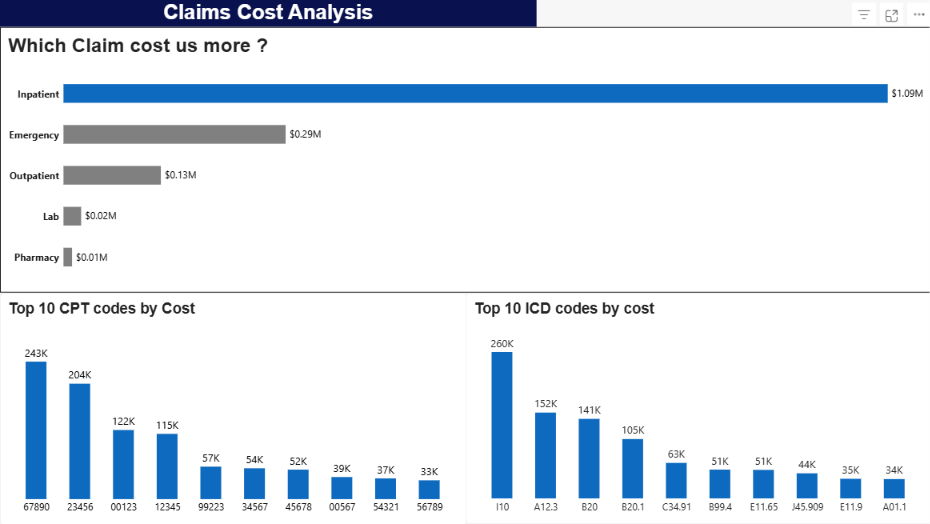

The dashboard page shown, as its layout file describes it:
{"tool":"powerbi","page":{"name":"Claims Cost Analysis","canvas":[1920,1080],"ordinal":0},"visuals":[{"type":"barChart","title":"Which Claim cost us more ?","fields":{"Category":["Claims_type/paid_amount.claim_type"],"Y":["Sum(Claims_type/paid_amount.Total_paid)"]},"box":[0,55.6,1920.4,547.5],"z":0},{"type":"columnChart","title":"Top 10 CPT codes by Cost","fields":{"Category":["claims.cpt_code"],"Y":["Sum(claims.paid_amount)"]},"box":[0,603.1,961.2,477.5],"z":1000},{"type":"textbox","box":[0,0,1105.3,55.6],"z":2000},{"type":"columnChart","title":"Top 10 ICD codes by cost","fields":{"Category":["claims.icd_code"],"Y":["Sum(claims.paid_amount)"]},"box":[961,604,959,476],"z":3000}]}

Visuals, with their boxes on the page's 1920x1080 design canvas (x1, y1, x2, y2). These are canvas units, not pixel positions in the 930x524 screenshot, which may show the page scaled, cropped or inside an application window:
"Which Claim cost us more ?" barChart: select_region(0, 56, 1920, 603)
"Top 10 CPT codes by Cost" columnChart: select_region(0, 603, 961, 1081)
textbox: select_region(0, 0, 1105, 56)
"Top 10 ICD codes by cost" columnChart: select_region(961, 604, 1920, 1080)
